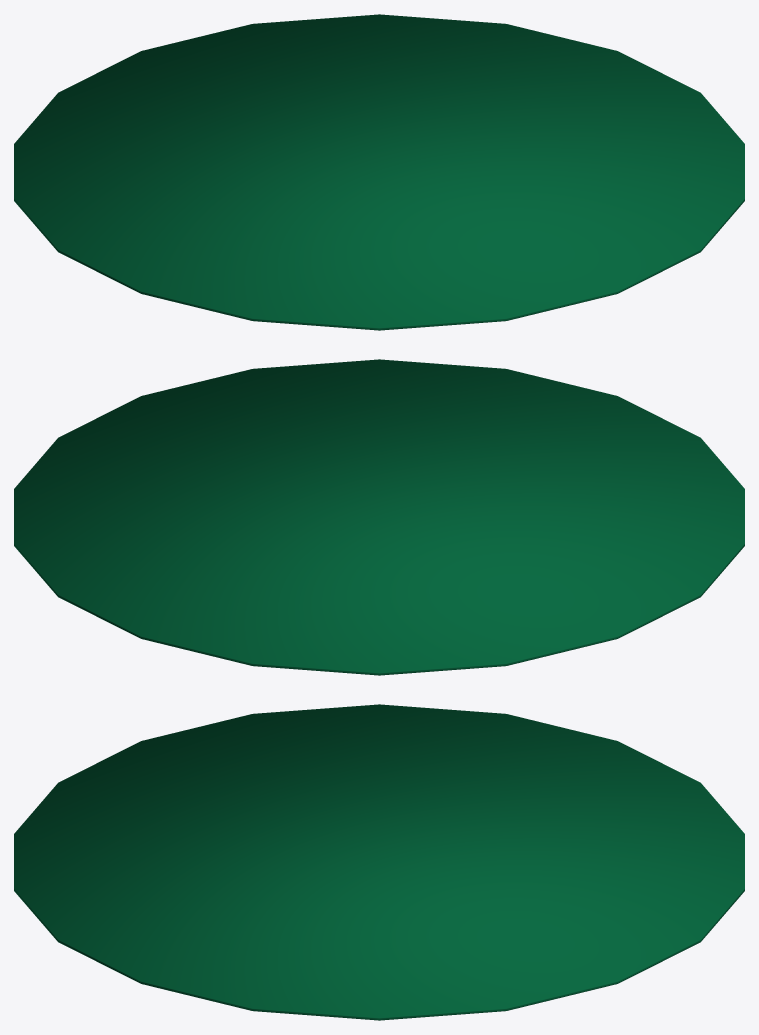
The model's file is alfombra.obj.
3 views of the same model, one above another, from view 1: azimuth 30°, elevation 25°; view 2: azimuth 150°, elevation 25°; view 3: azimuth 270°, elevation 25° (orthographic).
Visible parts, largest first — view 1: Cylinder001; view 2: Cylinder001; view 3: Cylinder001.
Boxes of the visible parts, <box> form: Cylinder001: <box>14,14,744,330</box>; Cylinder001: <box>14,359,744,675</box>; Cylinder001: <box>14,704,744,1020</box>.
Bounding box in the file's own units: 108 × 0.3937 × 106.
Materials: 1 (1 with a texture image).
